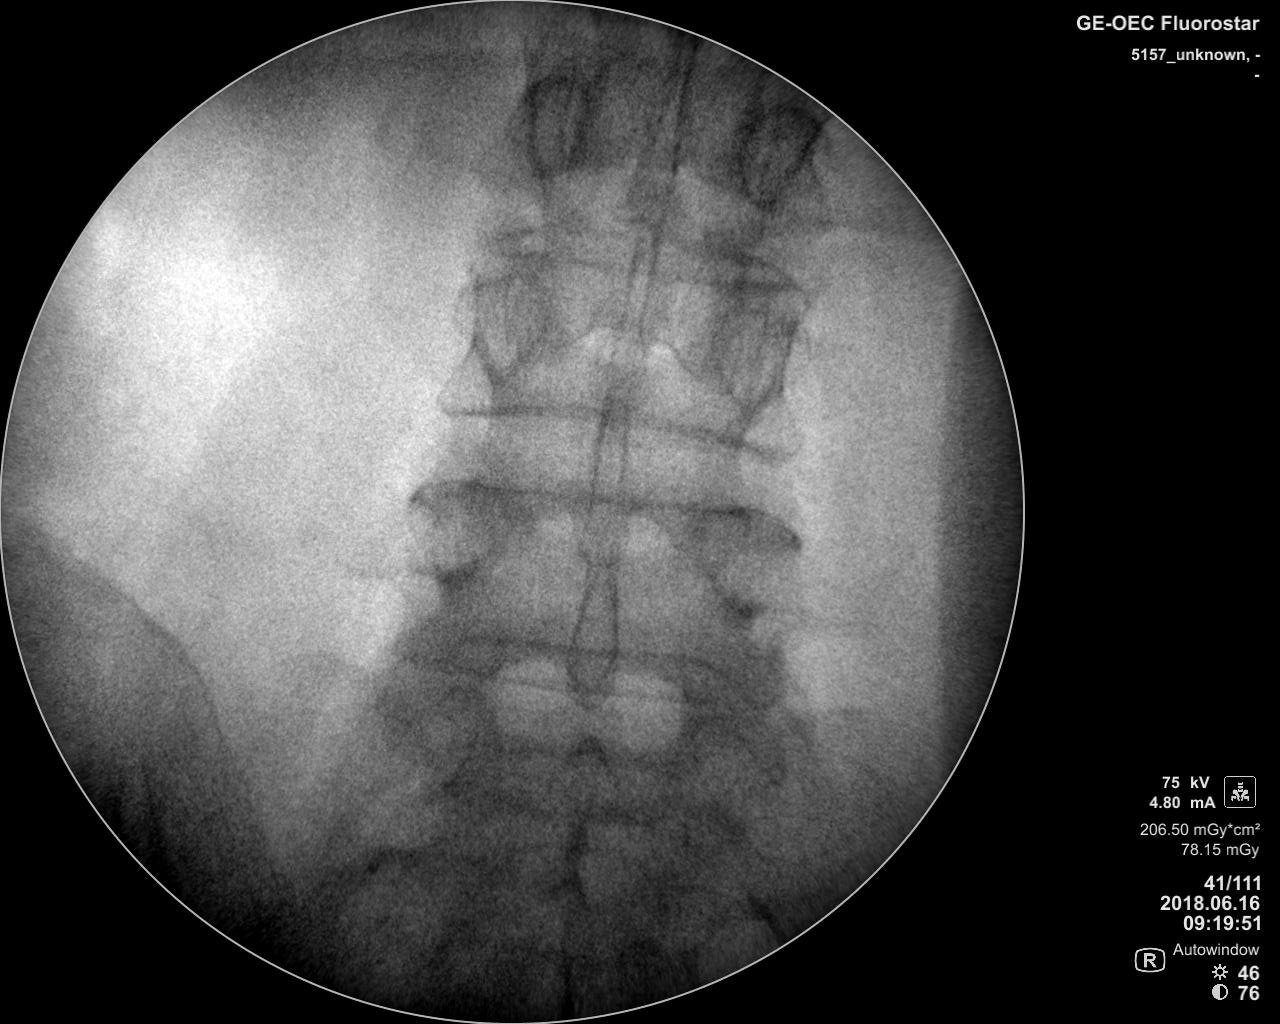eyes: (453, 266, 546, 381), (699, 507, 788, 619), (709, 290, 792, 408), (400, 484, 495, 585), (728, 96, 813, 208), (515, 70, 596, 181)
line: (408, 621, 754, 708), (426, 392, 789, 470), (400, 471, 793, 540), (476, 219, 814, 299)
nose: (625, 47, 701, 207), (573, 382, 629, 576), (599, 219, 661, 380), (559, 574, 628, 719)
